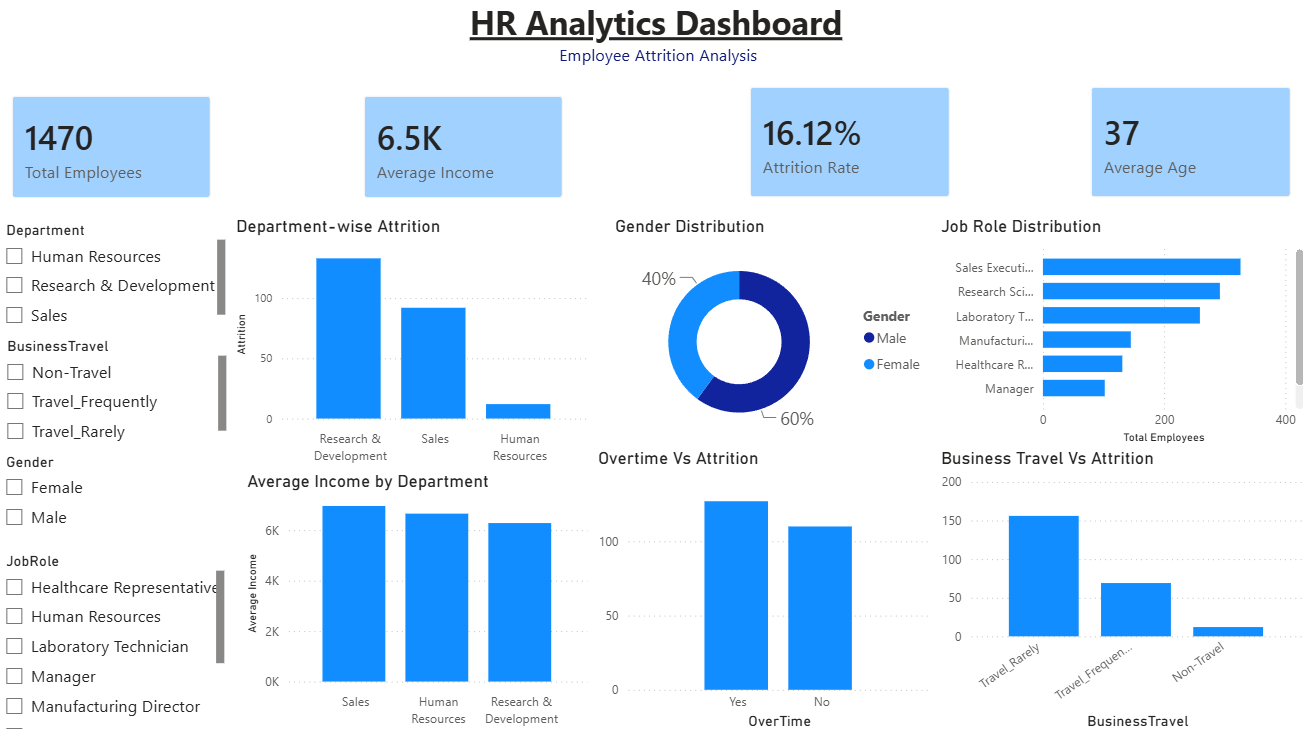

Layout of this report page (visuals, bound fields, positions):
{"tool":"powerbi","page":{"name":"Page 1","canvas":[1280,720],"ordinal":0},"visuals":[{"type":"textbox","box":[9.7,0,1270.3,81.7],"z":0},{"type":"cardVisual","fields":{"Data":["in.Total Employee"]},"box":[1,81.7,228.6,134.2],"z":1},{"type":"cardVisual","fields":{"Data":["in.Average Age"]},"box":[1050.5,72.9,229.5,143],"z":2},{"type":"cardVisual","fields":{"Data":["in.Attrition Rate"]},"box":[718.8,72.9,229.5,143],"z":3},{"type":"cardVisual","fields":{"Data":["in.Average Monthly Income"]},"box":[343.3,81.7,228.6,134.2],"z":4},{"type":"columnChart","title":"Department-wise Attrition","fields":{"Category":["in.Department"],"Y":["in.Employees Left"]},"box":[231.5,215.9,352.1,248],"z":5},{"type":"donutChart","title":"Gender Distribution","fields":{"Category":["in.Gender"],"Y":["CountNonNull(in.Gender)"]},"box":[600.1,215.9,317.1,225.7],"z":6},{"type":"clusteredBarChart","title":"Job Role Distribution","fields":{"Category":["in.JobRole"],"Y":["Count(in.EmployeeNumber)"]},"box":[917.2,215.9,362.8,225.7],"z":7},{"type":"columnChart","title":"Overtime Vs Attrition","fields":{"Category":["in.OverTime"],"Y":["in.Employees Left"]},"box":[583.6,441.6,333.6,278.2],"z":8},{"type":"columnChart","fields":{"Category":["in.Department"],"Y":["in.Average Income"]},"box":[242.2,464,341.4,255.8],"z":9},{"type":"clusteredColumnChart","title":"Business Travel Vs Attrition","fields":{"Category":["in.BusinessTravel"],"Y":["in.Employees Left"]},"box":[917.2,441.6,362.8,278.2],"z":10},{"type":"slicer","fields":{"Values":["in.Department"]},"box":[0,215.9,230.5,112.8],"z":11},{"type":"slicer","fields":{"Values":["in.BusinessTravel"]},"box":[1,328.8,230.5,112.8],"z":12},{"type":"slicer","fields":{"Values":["in.Gender"]},"box":[0,441.6,229.5,112.8],"z":13},{"type":"slicer","fields":{"Values":["in.JobRole"]},"box":[0,537.9,229.5,181.9],"z":14}]}

Visuals, with their boxes in screenshot pixels (x1, y1, x2, y2), scaled from the page's 1280x720 canvas onto the 1303x731 screenshot:
textbox: select_region(10, 0, 1302, 83)
cardVisual - in.Total Employee: select_region(1, 83, 234, 219)
cardVisual - in.Average Age: select_region(1069, 74, 1302, 219)
cardVisual - in.Attrition Rate: select_region(732, 74, 965, 219)
cardVisual - in.Average Monthly Income: select_region(349, 83, 582, 219)
"Department-wise Attrition" columnChart: select_region(236, 219, 594, 471)
"Gender Distribution" donutChart: select_region(611, 219, 934, 448)
"Job Role Distribution" clusteredBarChart: select_region(934, 219, 1302, 448)
"Overtime Vs Attrition" columnChart: select_region(594, 448, 934, 730)
columnChart - in.Department x in.Average Income: select_region(247, 471, 594, 730)
"Business Travel Vs Attrition" clusteredColumnChart: select_region(934, 448, 1302, 730)
slicer - in.Department: select_region(0, 219, 235, 334)
slicer - in.BusinessTravel: select_region(1, 334, 236, 448)
slicer - in.Gender: select_region(0, 448, 234, 563)
slicer - in.JobRole: select_region(0, 546, 234, 730)
